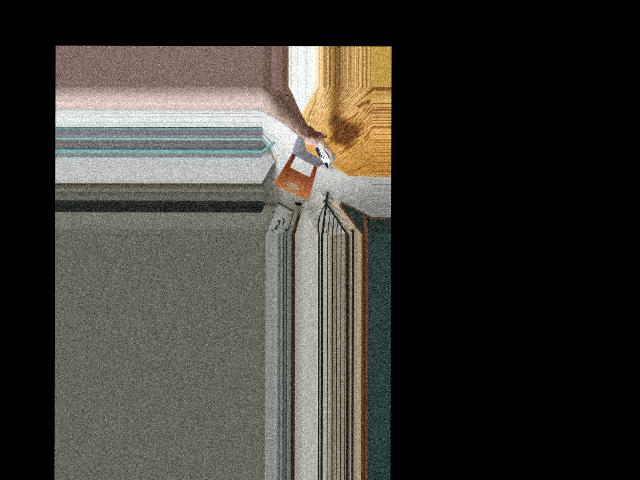cheese: (312, 134, 336, 169)
